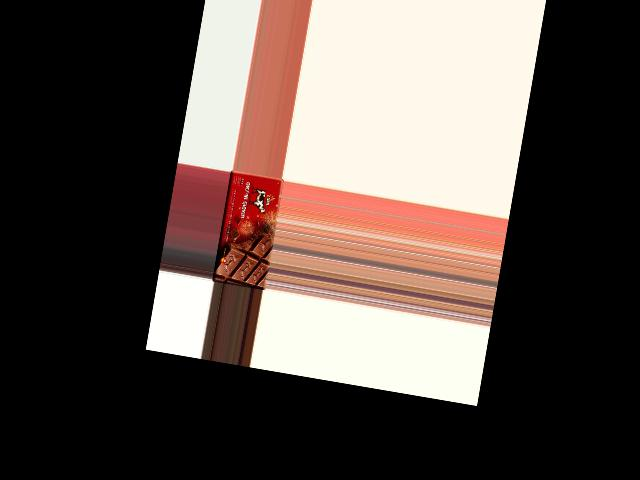chocolate: (212, 169, 283, 289)
